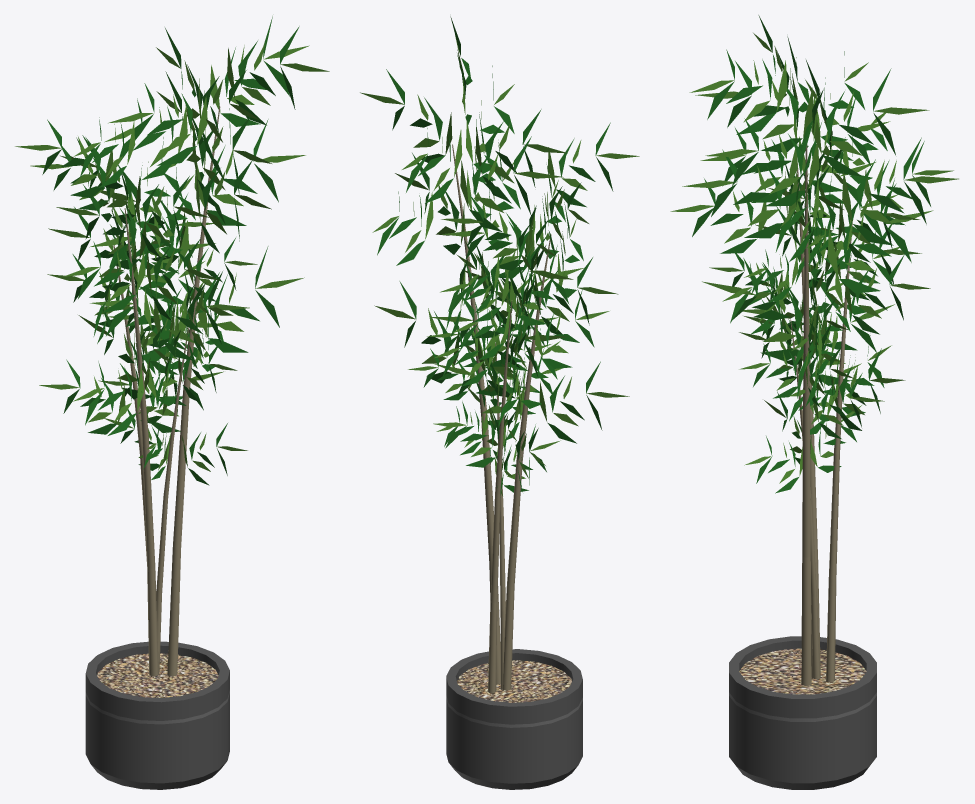
File: Tree_Bamboo2.dae
3 renders of one model, left to right at view 1: azimuth 30°, elevation 25°; view 2: azimuth 150°, elevation 25°; view 3: azimuth 270°, elevation 25°, orthographic. The views are drawn at different scales.
Visible parts, largest first — view 1: Group11, Bamboo_Shoot (×4); view 2: Group11, Bamboo_Shoot (×4); view 3: Group11, Bamboo_Shoot (×4).
Boxes of the visible parts, x1,y1,x2,y2 form: Group11: [85, 641, 229, 789]; Bamboo_Shoot (×4): [112, 106, 220, 676]; Group11: [446, 649, 582, 789]; Bamboo_Shoot (×4): [452, 144, 551, 693]; Group11: [729, 636, 876, 789]; Bamboo_Shoot (×4): [790, 144, 852, 685].
Bounding box in the file's own units: 118 × 106 × 308.
Materials: 7 (1 with a texture image).
